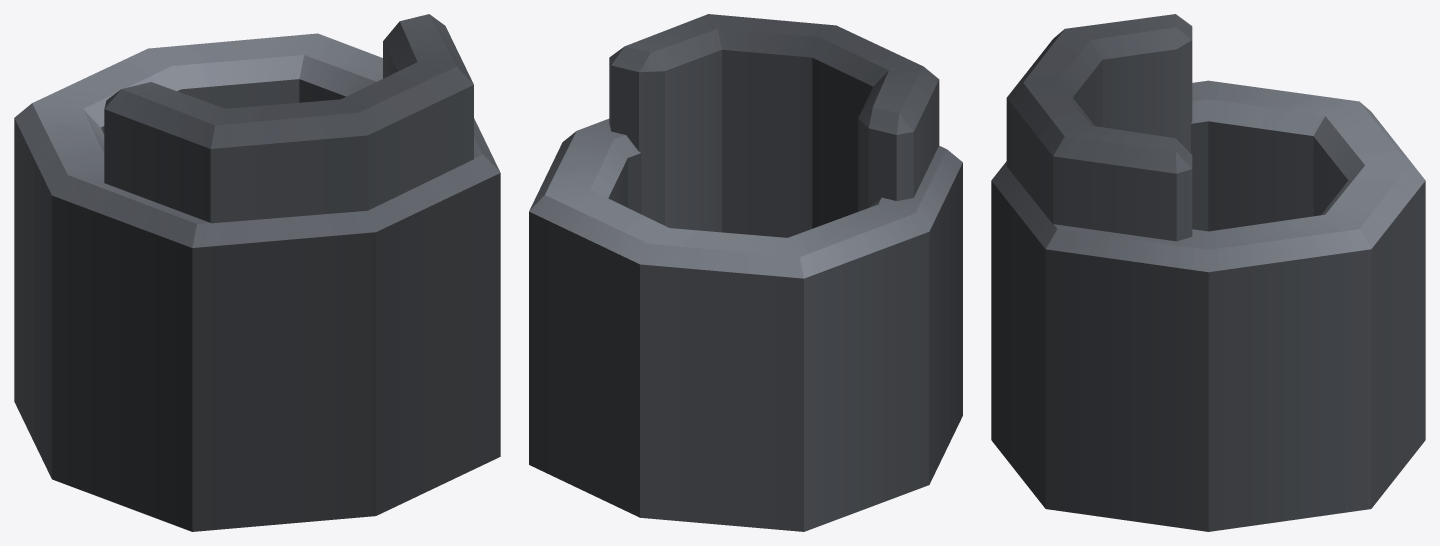
File: Pipe 01.FBX
3 views of the same model, side by side, from view 1: azimuth 30°, elevation 25°; view 2: azimuth 150°, elevation 25°; view 3: azimuth 270°, elevation 25° (orthographic). The views are drawn at different scales.
Parts seen in each view (by area): view 1: Pipe 01; view 2: Pipe 01; view 3: Pipe 01.
Part boxes in pixels (left/top/right/bottom): Pipe 01: left=14, top=14, right=500, bottom=531; Pipe 01: left=529, top=14, right=962, bottom=531; Pipe 01: left=991, top=14, right=1425, bottom=531.
Size of the model in its own units: 69.04 by 62.71 by 69.04.
